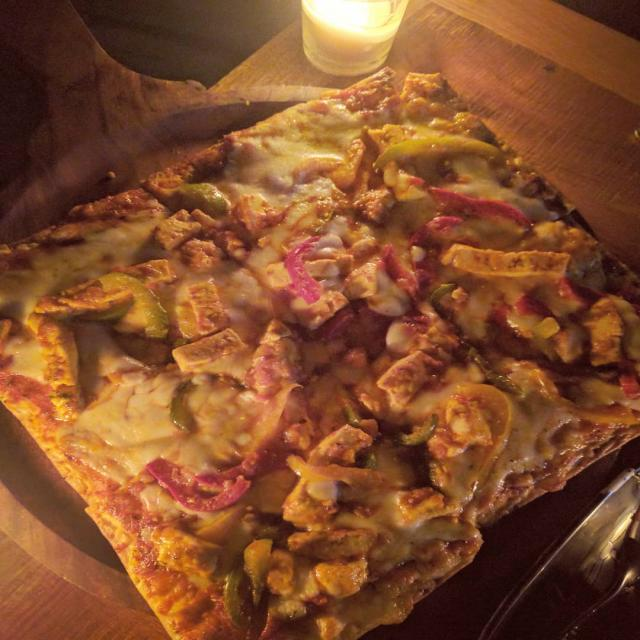pizza: (0, 69, 639, 639)
